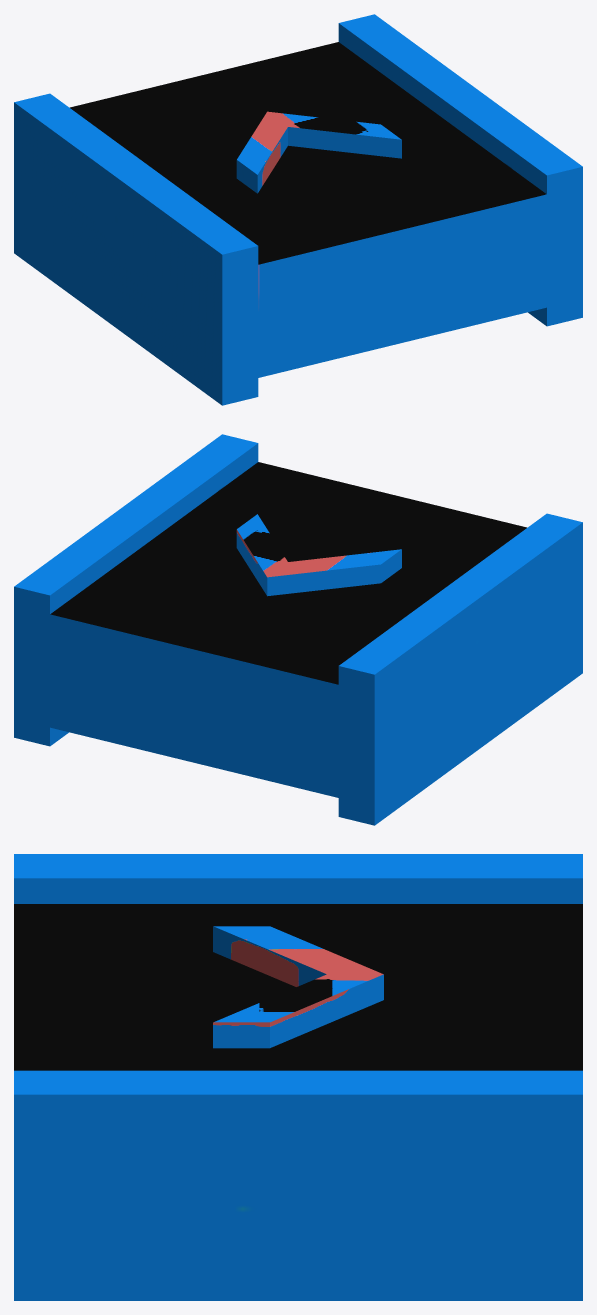
The model's file is conveyor 1.fbx.
The picture shows the model from 3 angles, top to bottom: view 1: azimuth 30°, elevation 25°; view 2: azimuth 150°, elevation 25°; view 3: azimuth 270°, elevation 25°; orthographic projection. The views are drawn at different scales.
Parts seen in each view (by area): view 1: Conveyor.001, Arrow.001; view 2: Conveyor.001, Arrow.001; view 3: Conveyor.001, Arrow.001.
Part boxes in pixels (x1,y1,x2,y2): Conveyor.001: (14, 14, 582, 405); Arrow.001: (236, 111, 401, 193); Conveyor.001: (14, 434, 582, 825); Arrow.001: (236, 514, 401, 596); Conveyor.001: (14, 854, 582, 1300); Arrow.001: (213, 926, 383, 1048).
Bounding box in the file's own units: 200 × 80 × 200.
